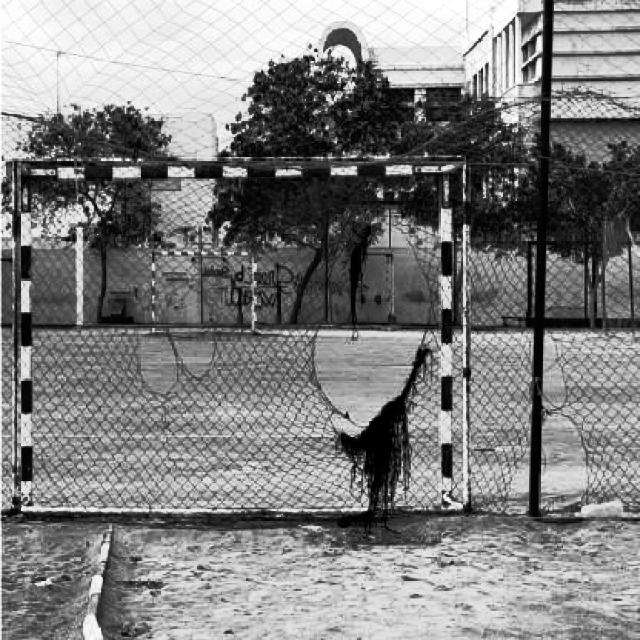anomaly-fence: (135, 222, 445, 489), (508, 293, 609, 527)
